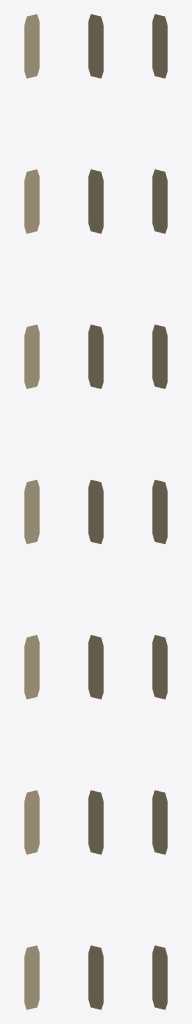
The model's file is 121_valiviiva_019.gltf.
The picture shows the model from 3 angles, left to right: view 1: azimuth 30°, elevation 25°; view 2: azimuth 150°, elevation 25°; view 3: azimuth 330°, elevation 25°; orthographic projection.
Parts seen in each view (by area): view 1: valiviiva_019; view 2: valiviiva_019; view 3: valiviiva_019.
Boxes of the visible parts, left/top/right/bottom form: valiviiva_019: left=24, top=14, right=39, bottom=1009; valiviiva_019: left=88, top=14, right=103, bottom=1009; valiviiva_019: left=152, top=14, right=167, bottom=1009.
Size of the model in its own units: 0.7118 by 43.56 by 0.
1 material, 1 textured.
